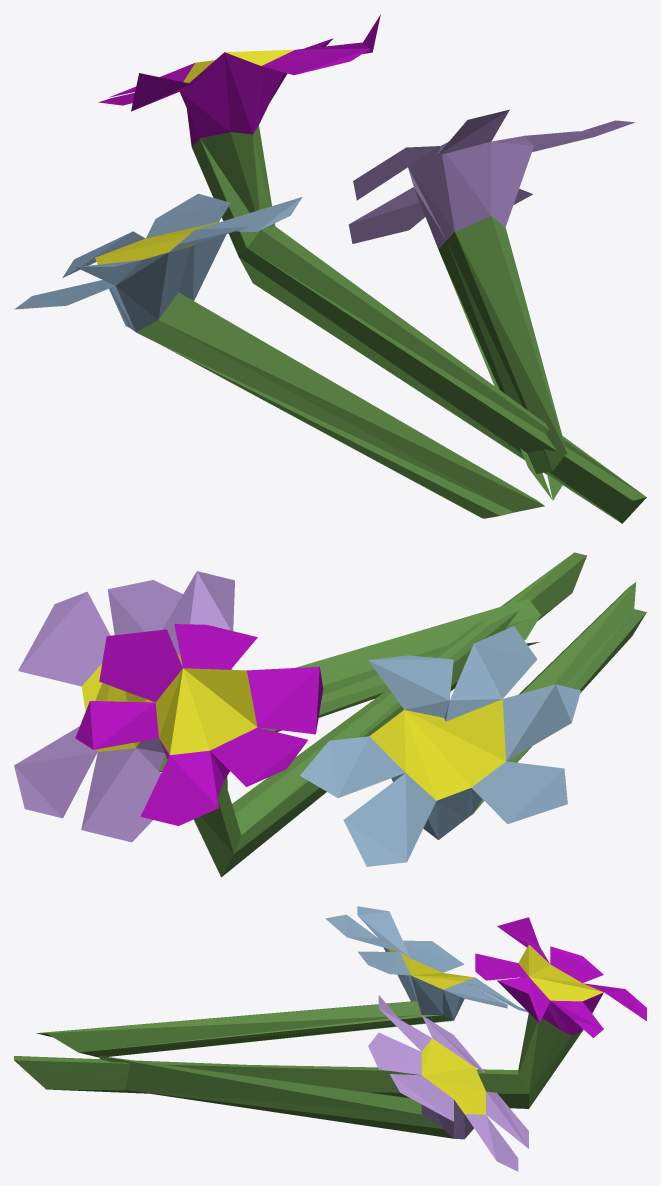
File: inv_flowers_9.obj
The picture shows the model from 3 angles, top to bottom: view 1: azimuth 30°, elevation 25°; view 2: azimuth 150°, elevation 25°; view 3: azimuth 270°, elevation 25°; orthographic projection. The views are drawn at different scales.
Size of the model in its own units: 0.3281 by 0.125 by 0.4609.
